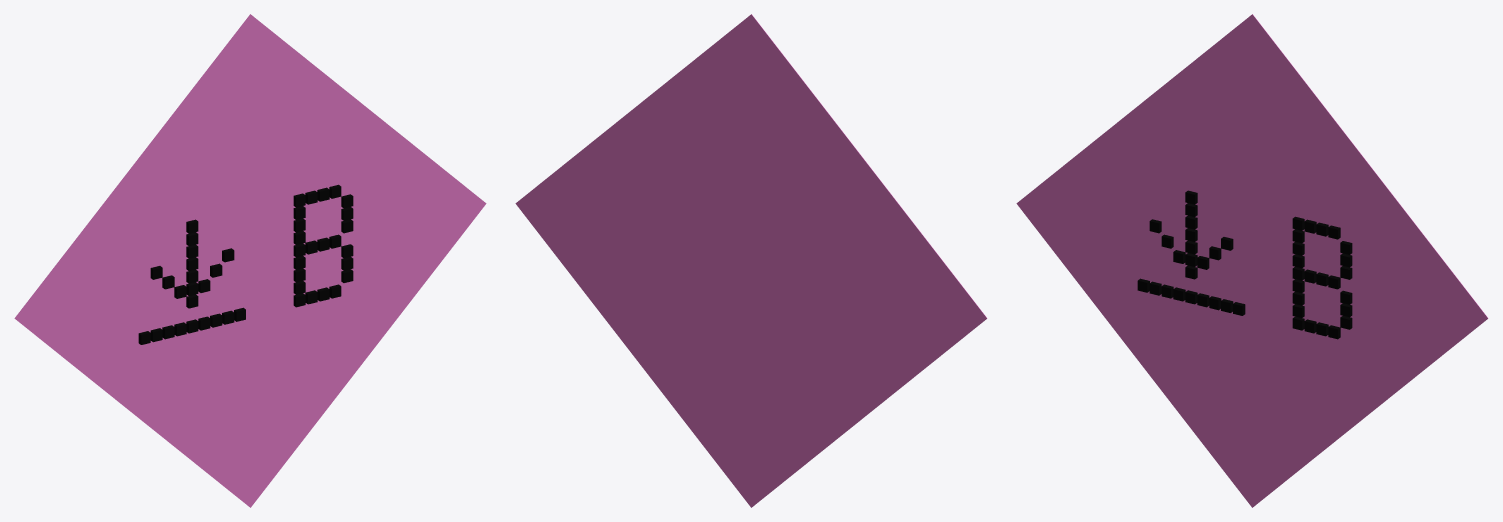
The model's file is ChangeAreaTypeB.fbx.
3 renders of one model, left to right at view 1: azimuth 30°, elevation 25°; view 2: azimuth 150°, elevation 25°; view 3: azimuth 330°, elevation 25°, orthographic.
Parts seen in each view (by area): view 1: Cube.047; view 2: Cube.047; view 3: Cube.047.
Boxes of the visible parts, x1,y1,x2,y2 form: Cube.047: (14, 14, 486, 507); Cube.047: (515, 14, 987, 507); Cube.047: (1016, 14, 1488, 507).
Bounding box in the file's own units: 198 × 198 × 2.1.
